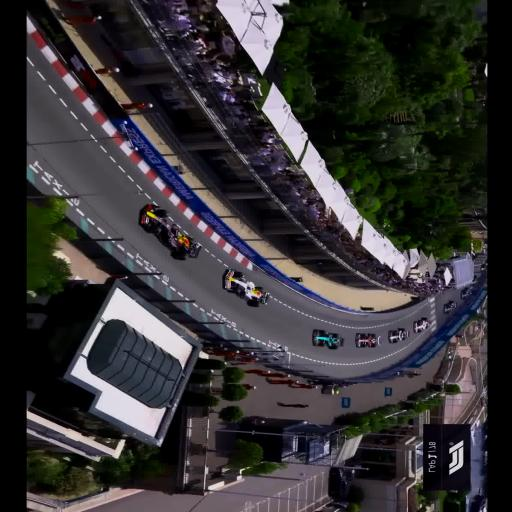f1_car: (140, 205, 201, 261), (223, 269, 269, 307), (313, 330, 343, 350), (355, 334, 379, 348), (388, 330, 401, 343), (413, 320, 426, 333), (397, 328, 409, 341), (443, 303, 455, 314), (460, 288, 471, 299), (420, 318, 432, 327), (447, 301, 457, 309)
